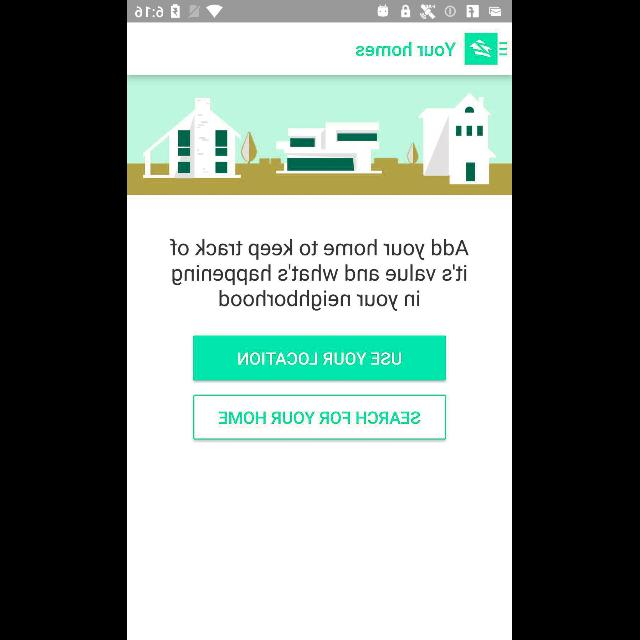icon: (500, 42, 508, 56)
image: (128, 76, 512, 194), (466, 33, 498, 65)
text: (170, 238, 470, 312), (357, 42, 457, 56)
textbutton: (194, 394, 446, 440), (194, 336, 446, 380)
toolbar: (128, 23, 512, 75)
uppertaskbar: (128, 1, 512, 23)
